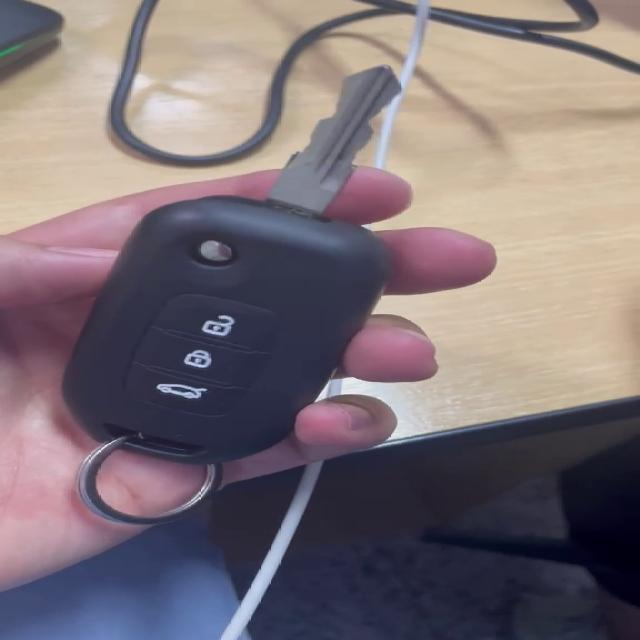llave-auto: (28, 20, 624, 579)
